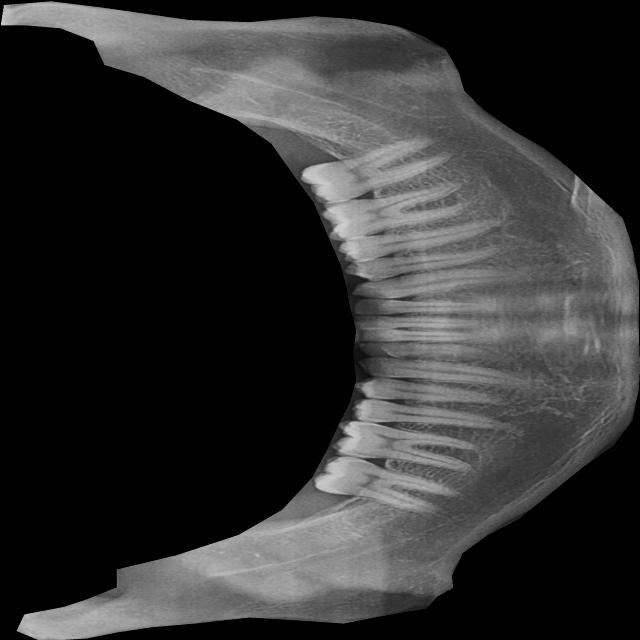mandibula: (1, 0, 640, 640)
